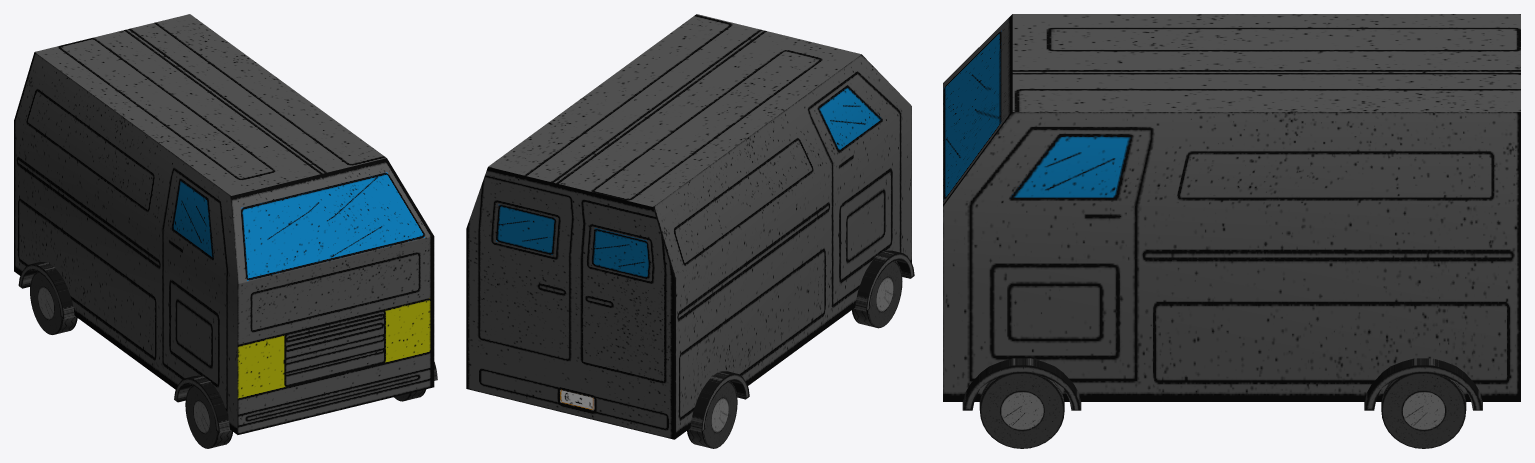
File: van.obj
The picture shows the model from 3 angles, left to right: view 1: azimuth 30°, elevation 25°; view 2: azimuth 150°, elevation 25°; view 3: azimuth 270°, elevation 25°; orthographic projection. The views are drawn at different scales.
Visible parts, largest first — view 1: vehicle, wheel.002, wheel.003, mudsaver.003, mudsaver.002; view 2: vehicle, wheel.002, wheel.003, mudsaver.002, mudsaver.003; view 3: vehicle, wheel, wheel.001, mudsaver, mudsaver.001.
Part boxes in pixels (left/top/right/bottom): vehicle: left=14, top=14, right=434, bottom=434; wheel.002: left=185, top=385, right=232, bottom=448; wheel.003: left=30, top=271, right=77, bottom=334; mudsaver.003: left=18, top=262, right=75, bottom=319; mudsaver.002: left=174, top=375, right=230, bottom=433; vehicle: left=466, top=14, right=911, bottom=439; wheel.002: left=852, top=261, right=902, bottom=328; wheel.003: left=687, top=381, right=737, bottom=448; mudsaver.002: left=854, top=250, right=914, bottom=311; mudsaver.003: left=689, top=371, right=749, bottom=431; vehicle: left=943, top=14, right=1520, bottom=401; wheel: left=979, top=373, right=1064, bottom=448; wheel.001: left=1381, top=373, right=1466, bottom=448; mudsaver: left=962, top=358, right=1081, bottom=410; mudsaver.001: left=1364, top=358, right=1482, bottom=410.
Size of the model in its own units: 4.51 by 4.88 by 8.02.
